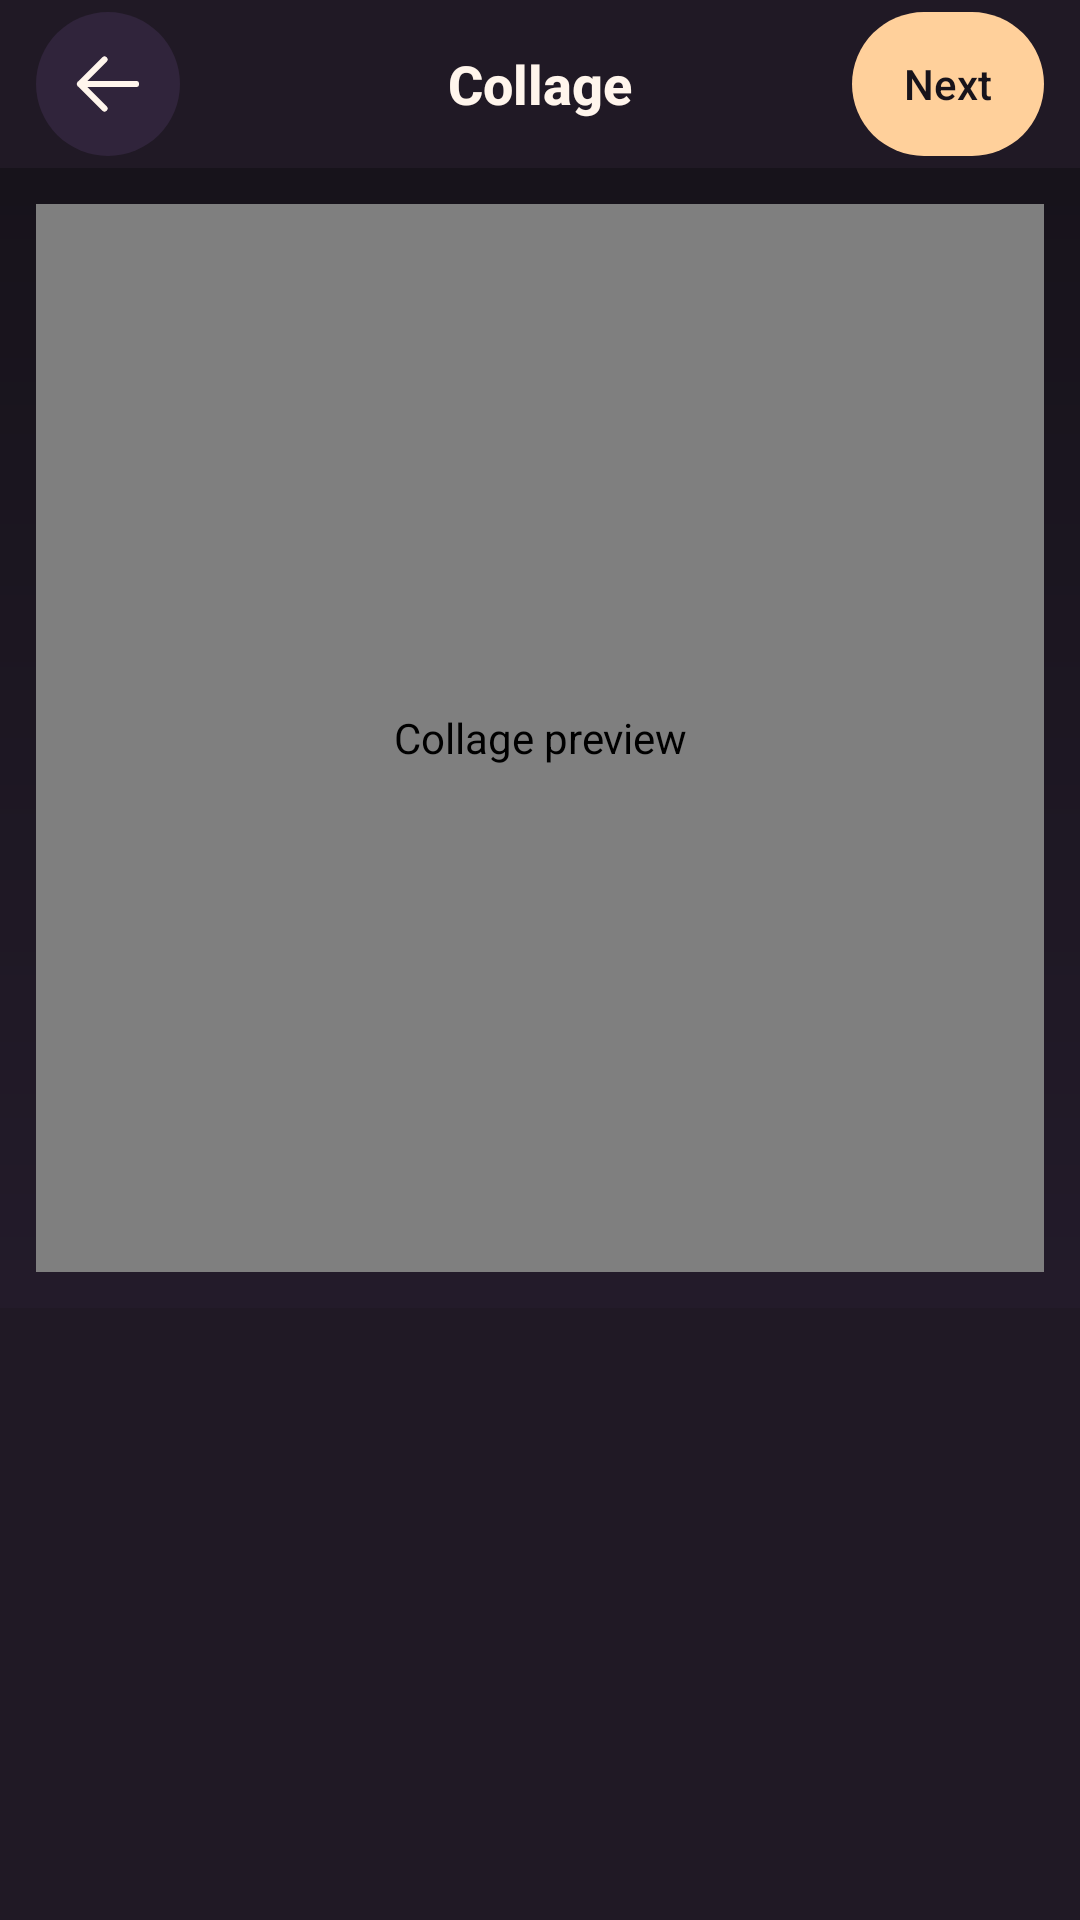

Where to tap for icons on this 1080x1920 app screen, as [x,y]:
Back: [108,84]
